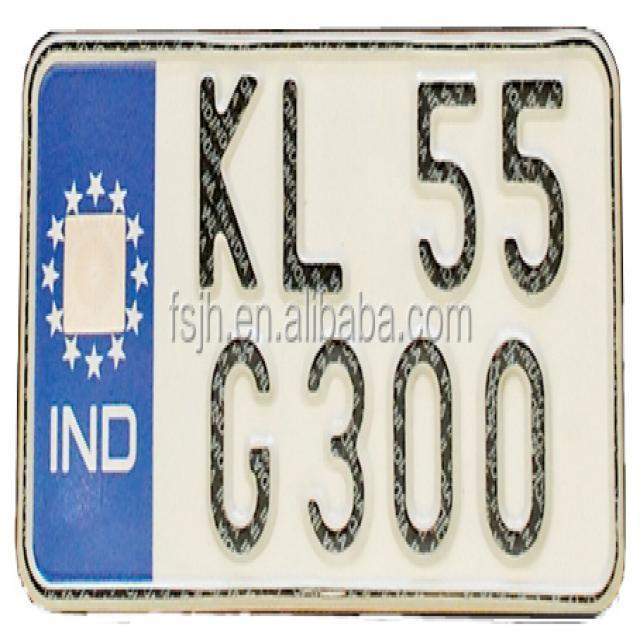License_Plate: (12, 24, 634, 618)
